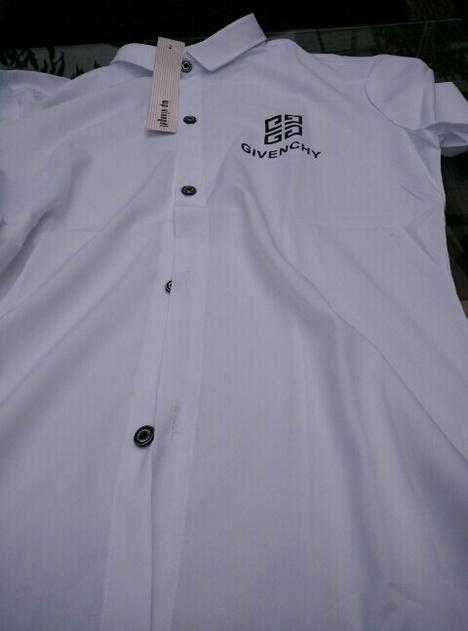S_shirt: (1, 7, 466, 631)
